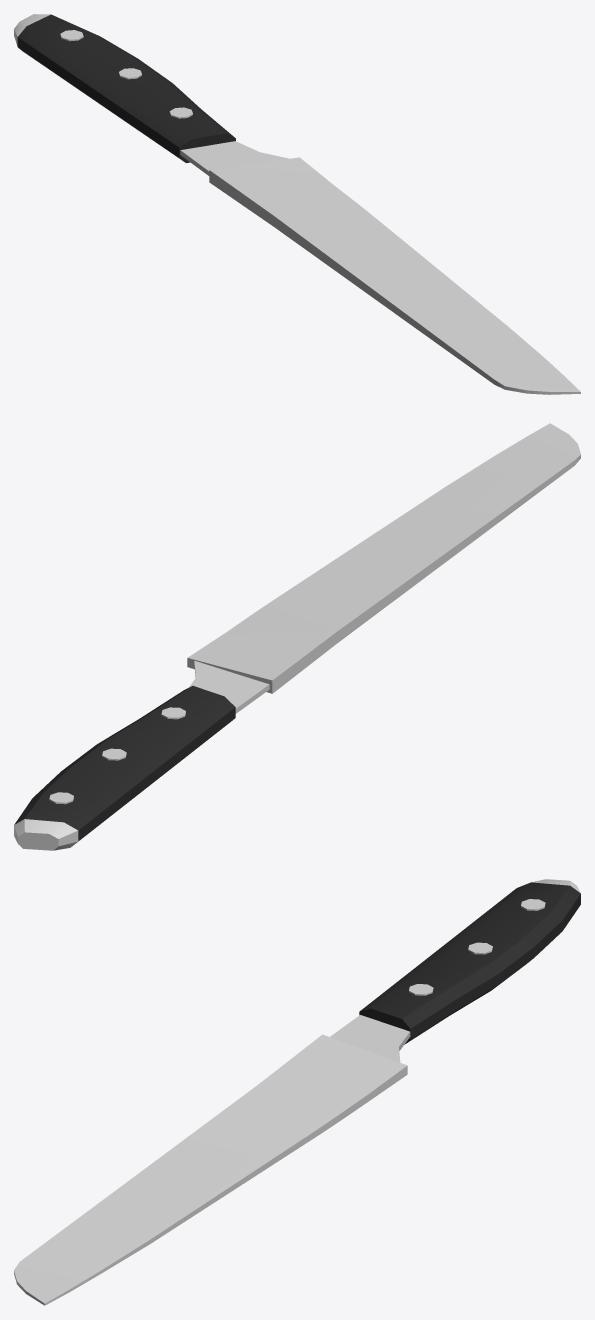
File: BreadKnife_01.fbx
The picture shows the model from 3 angles, top to bottom: view 1: azimuth 30°, elevation 25°; view 2: azimuth 150°, elevation 25°; view 3: azimuth 330°, elevation 25°; orthographic projection. The views are drawn at different scales.
Visible parts, largest first — view 1: BreadKnife_01; view 2: BreadKnife_01; view 3: BreadKnife_01.
Boxes of the visible parts, box(x1,y1,x2,y2) form: BreadKnife_01: box(14, 14, 580, 394); BreadKnife_01: box(14, 423, 580, 850); BreadKnife_01: box(14, 879, 580, 1305).
Bounding box in the file's own units: 0.0384 × 0.0107 × 0.3818.
